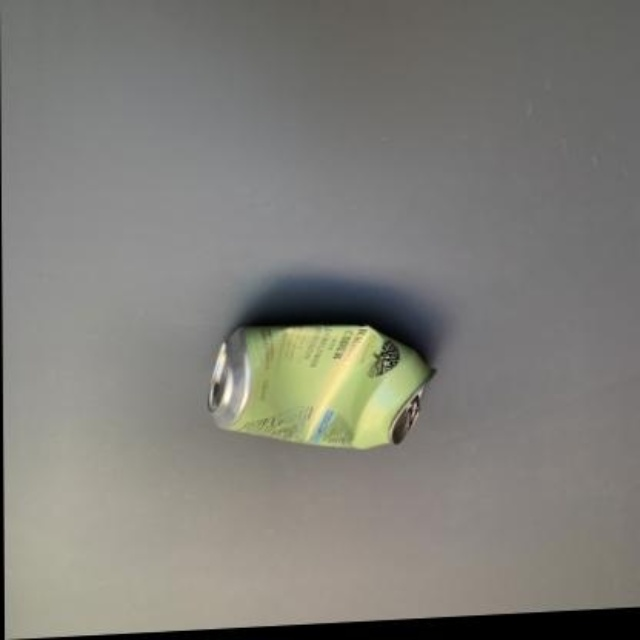trash: (208, 325, 432, 448)
